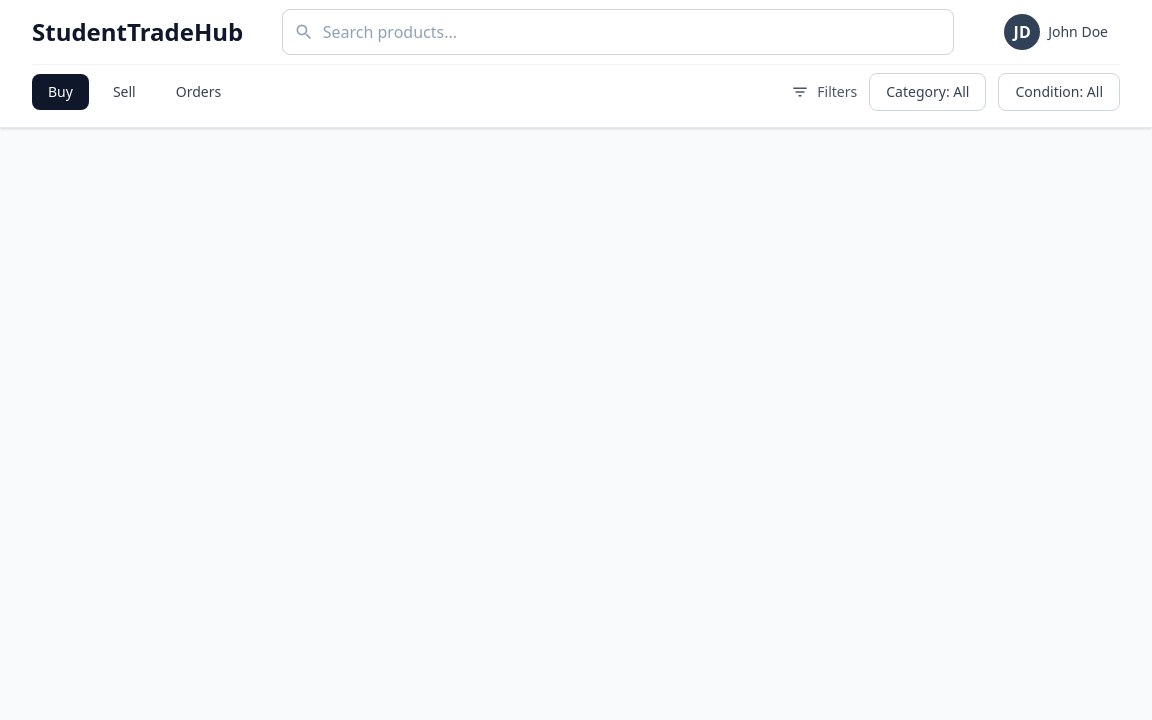
Navbar Component › Profile Dropdown › closes dropdown when clicking outside
Click the button "JD John Doe". click: (1056, 32)
box: [992,6,1120,58]
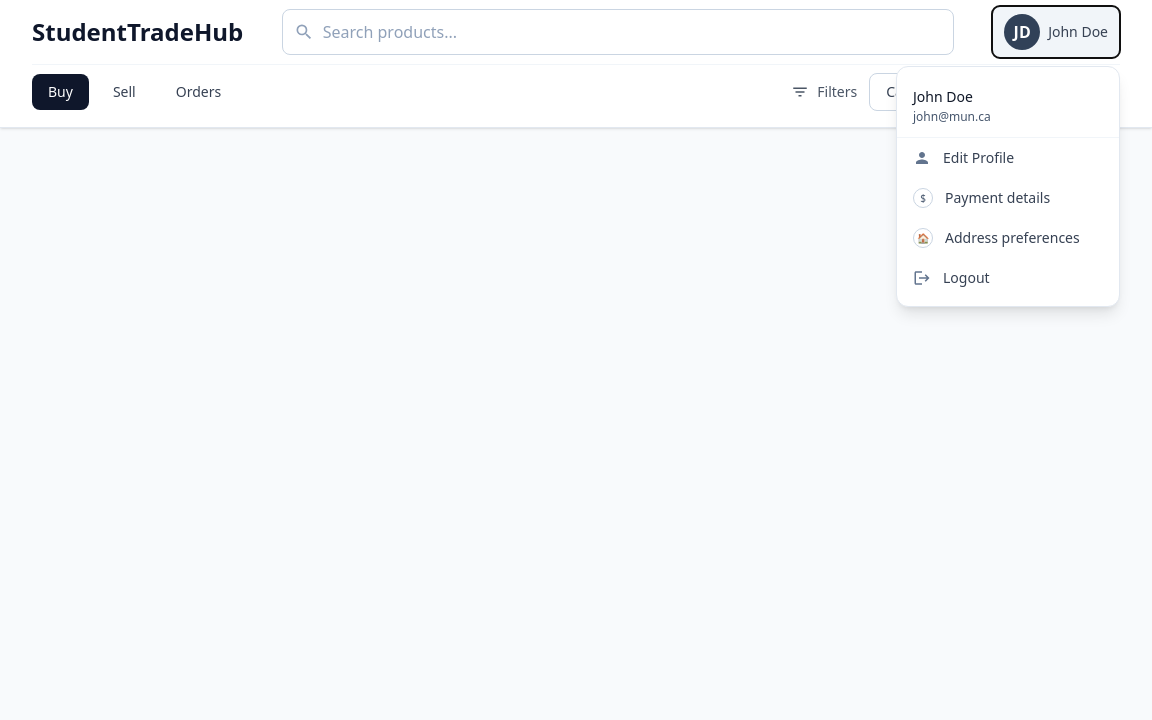
Check: the text "Edit Profile" is shown, box [943,148,1014,168]
Click the element that starts with "StudentTradeHub". click: (576, 360)
box: [0,0,1151,719]
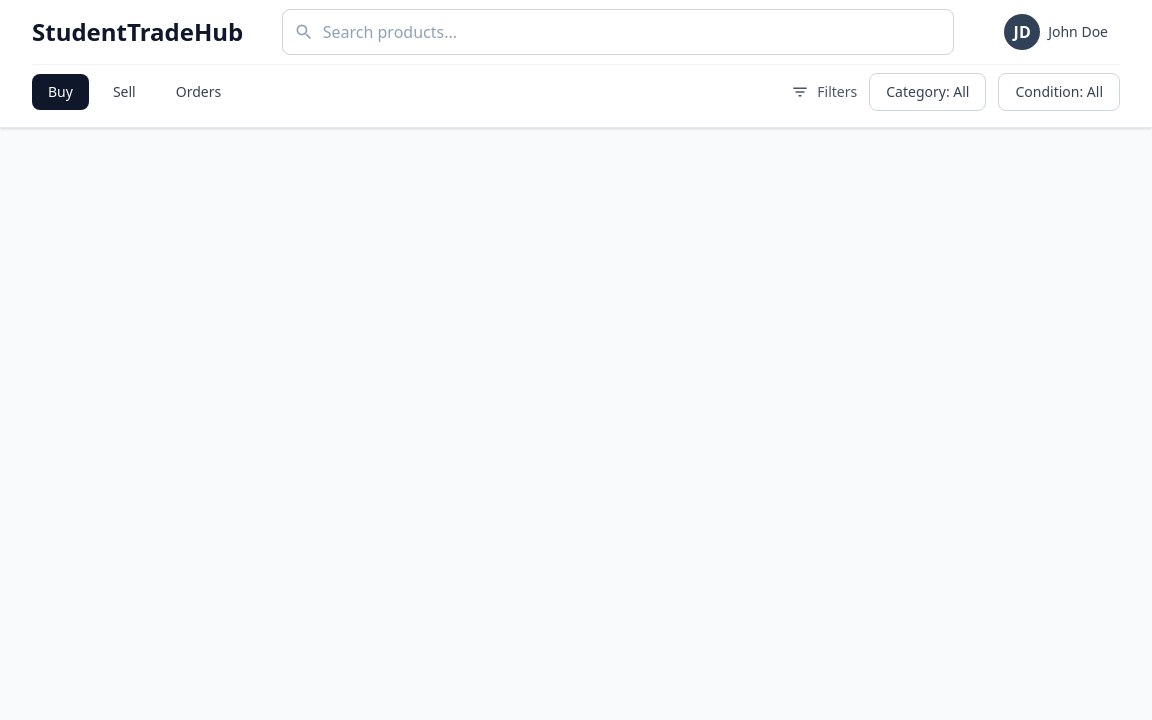
Check: the button "Edit Profile" is gone
